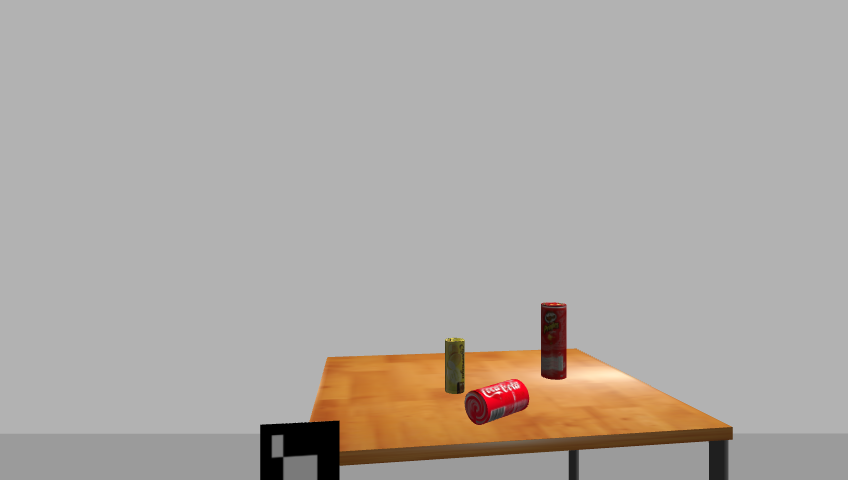aruco marker: (253, 420, 345, 480)
biscuits pack: (443, 337, 467, 396)
coke can: (462, 379, 531, 426)
dinner table: (299, 346, 742, 480)
pringles can: (538, 302, 569, 381)
